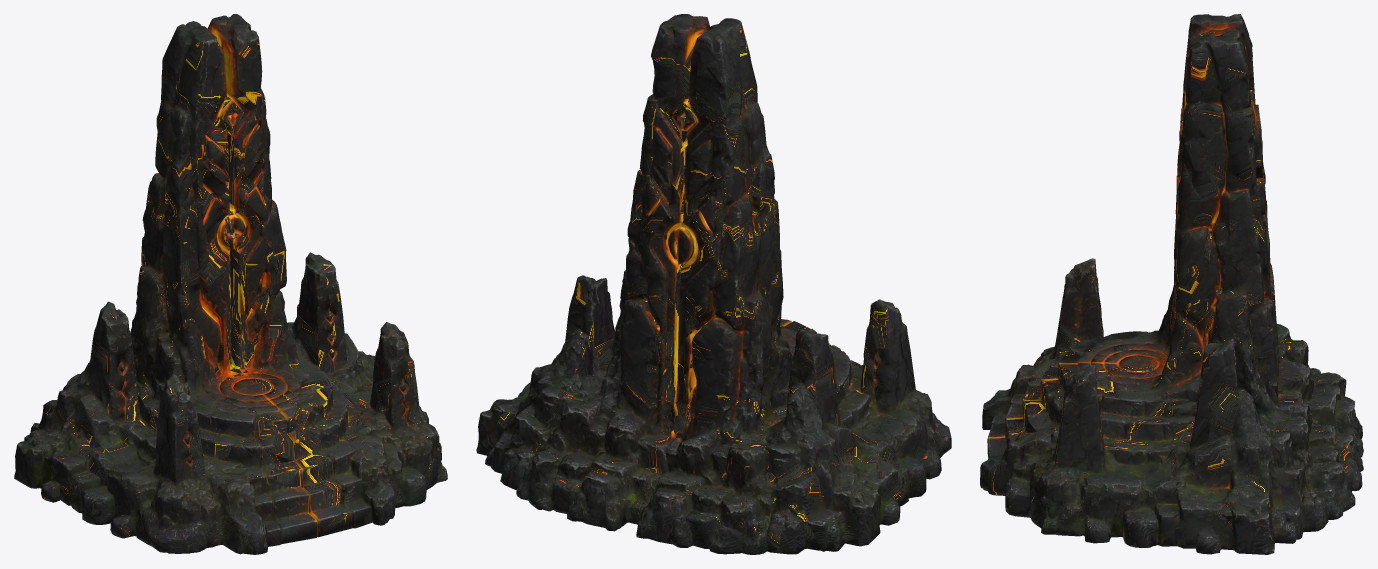
The model's file is Volcanic_Monolith.glb.
3 renders of one model, left to right at view 1: azimuth 30°, elevation 25°; view 2: azimuth 150°, elevation 25°; view 3: azimuth 270°, elevation 25°, orthographic. The views are drawn at different scales.
Parts seen in each view (by area): view 1: Volcanic_Monolith; view 2: Volcanic_Monolith; view 3: Volcanic_Monolith.
Part boxes in pixels (x1=…): Volcanic_Monolith: x1=14, y1=14, x2=447, y2=554; Volcanic_Monolith: x1=476, y1=14, x2=951, y2=554; Volcanic_Monolith: x1=980, y1=14, x2=1363, y2=554.
Bounding box in the file's own units: 1.7 × 1.9 × 1.52.
1 material, 1 textured.
